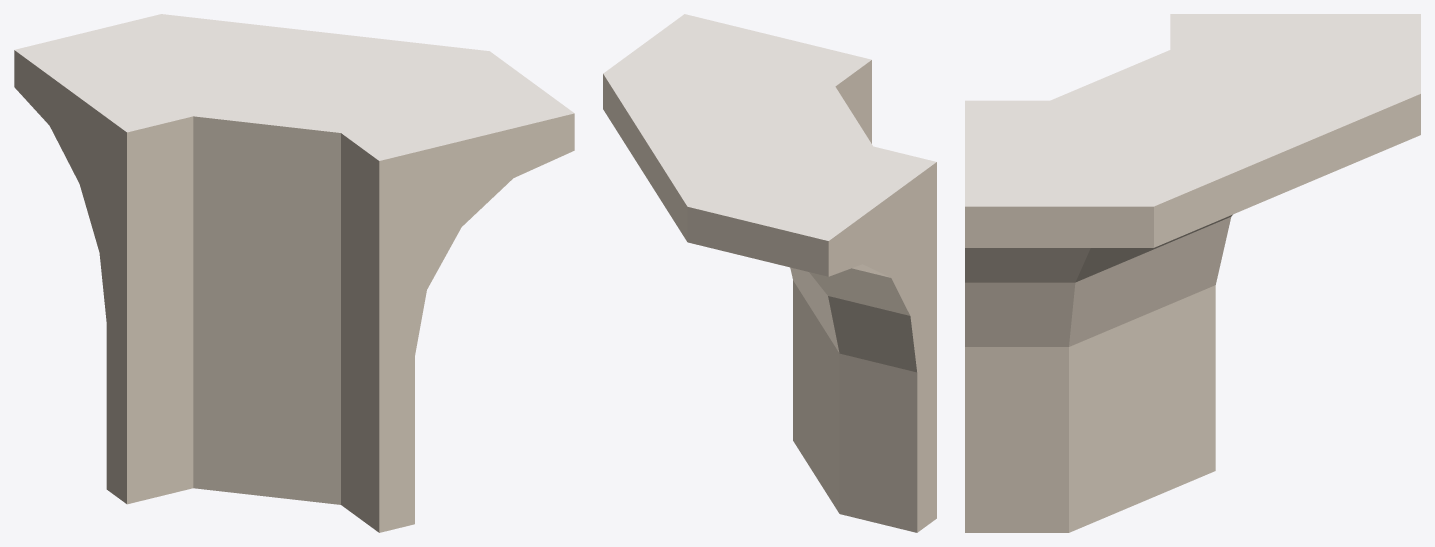
The model's file is Wall_Arch_Corner_Outer.glb.
The picture shows the model from 3 angles, left to right: view 1: azimuth 30°, elevation 25°; view 2: azimuth 150°, elevation 25°; view 3: azimuth 270°, elevation 25°; orthographic projection. The views are drawn at different scales.
Visible parts, largest first — view 1: Wall_Arch_Corner_Outer; view 2: Wall_Arch_Corner_Outer; view 3: Wall_Arch_Corner_Outer.
Boxes of the visible parts, x1=… form: Wall_Arch_Corner_Outer: x1=14, y1=14, x2=574, y2=532; Wall_Arch_Corner_Outer: x1=603, y1=14, x2=936, y2=532; Wall_Arch_Corner_Outer: x1=965, y1=14, x2=1420, y2=532.
Size of the model in its own units: 2 by 2 by 2.
